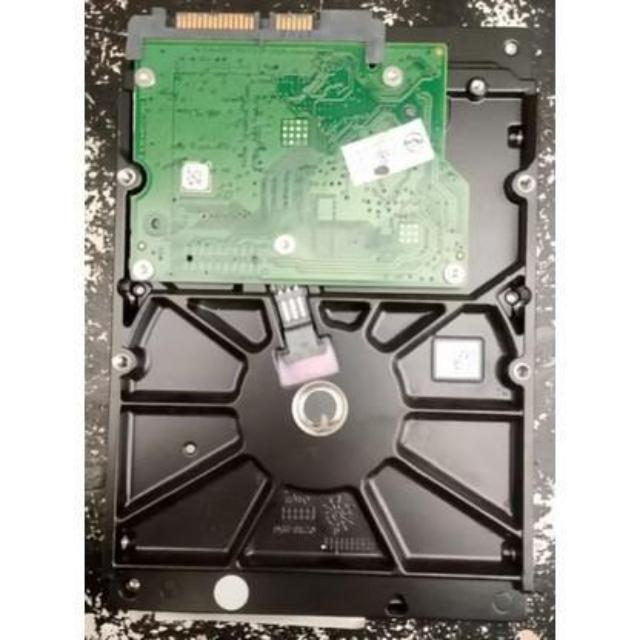DISK: (124, 13, 533, 622)
